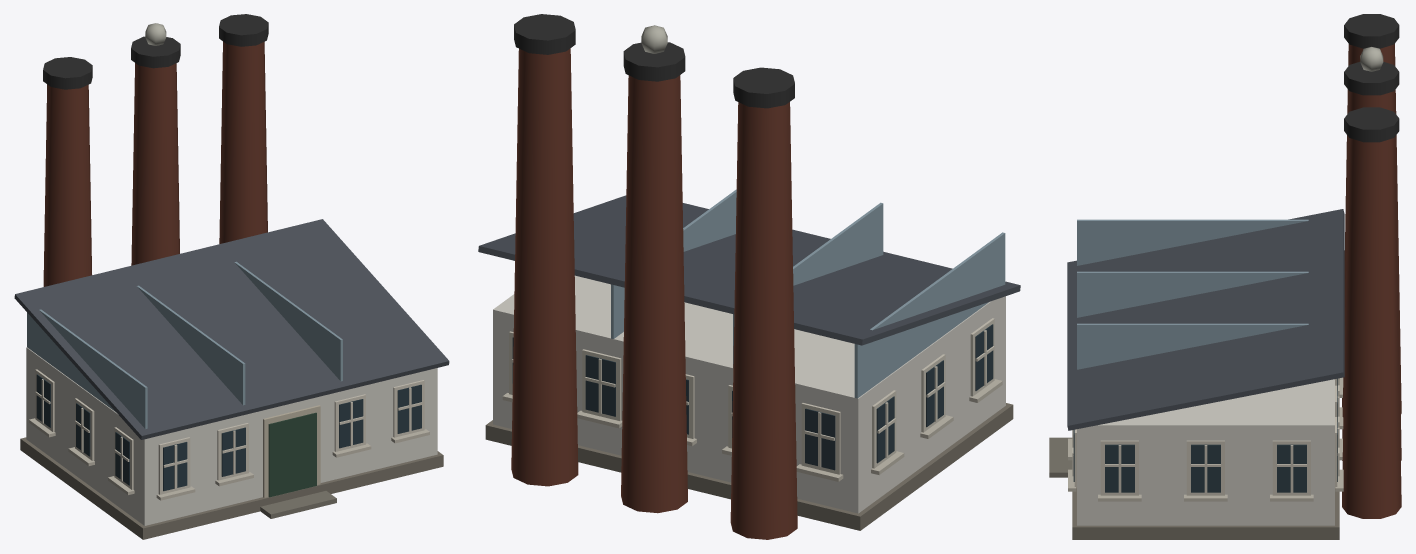
The model's file is procedural_engineworks@6.glb.
3 renders of one model, left to right at view 1: azimuth 30°, elevation 25°; view 2: azimuth 150°, elevation 25°; view 3: azimuth 270°, elevation 25°, orthographic. The views are drawn at different scales.
Visible parts, largest first — view 1: part_0; view 2: part_0, part_4; view 3: part_0, part_4.
Boxes of the visible parts, bbox=[...] form: part_0: bbox=[14, 14, 449, 539]; part_0: bbox=[478, 14, 1020, 539]; part_4: bbox=[641, 25, 667, 53]; part_0: bbox=[1049, 14, 1401, 539]; part_4: bbox=[1360, 46, 1383, 71].
Size of the model in its own units: 8.4 by 9.89 by 7.65.
